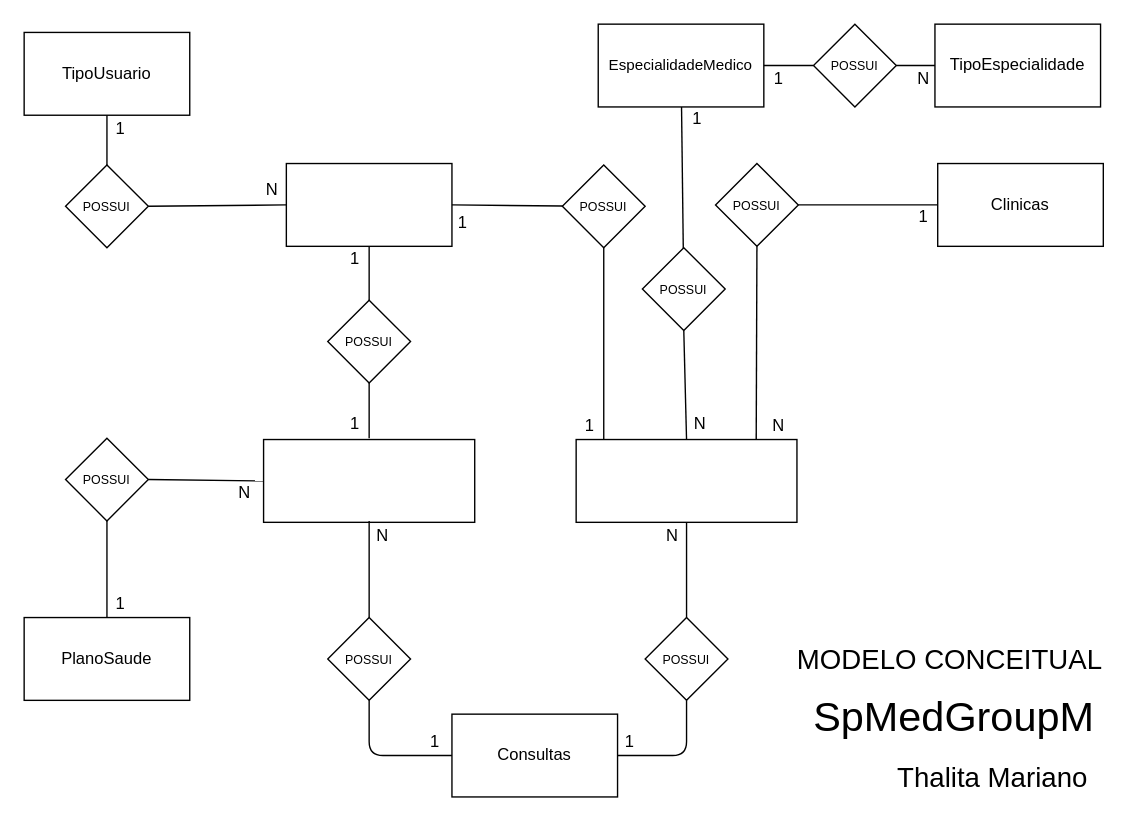
Some shapes in this 1132 by 821 pixel diagram are drawn without their labels. Each missing label, with the centre of its shape:
"FichaPaciente" goes at (368,480).
"Medicos" goes at (686,480).
"Usuarios" goes at (368,204).
